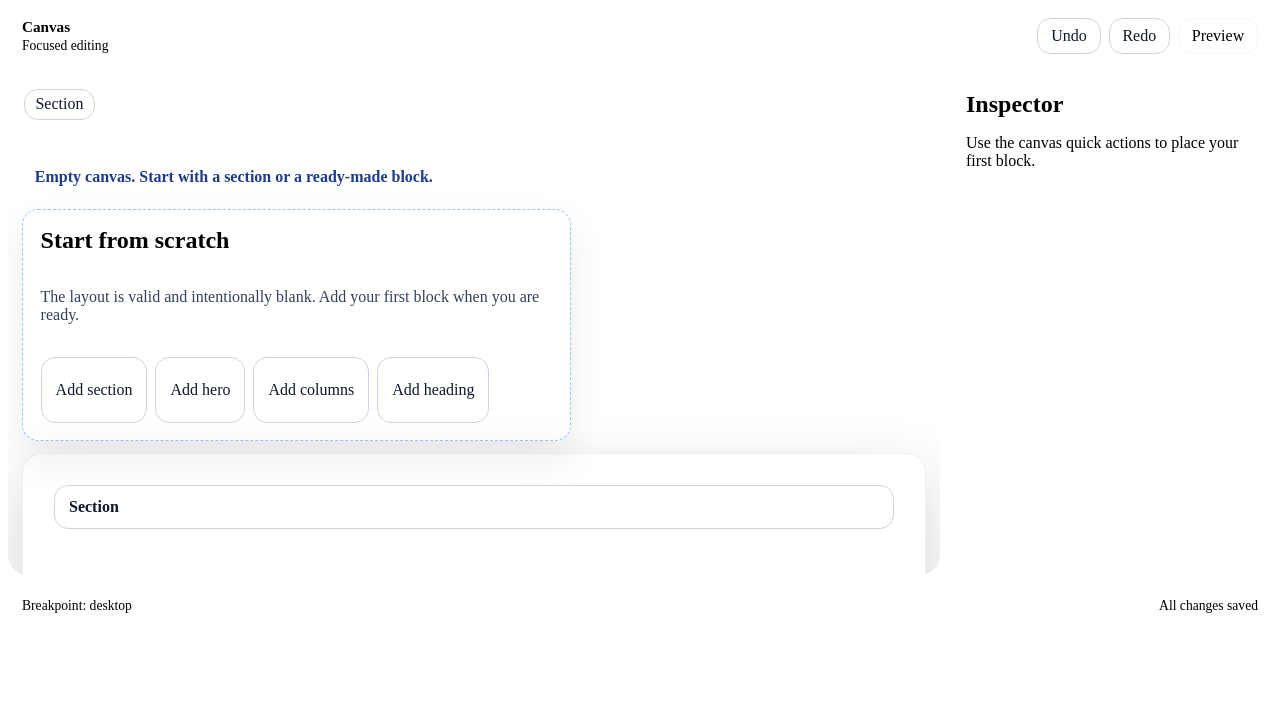
Test: editor shell flow › shows an empty-state affordance and selects the created first heading
Click the button "Add heading" at (433, 390), box [377, 357, 489, 423]
(page scrolled)
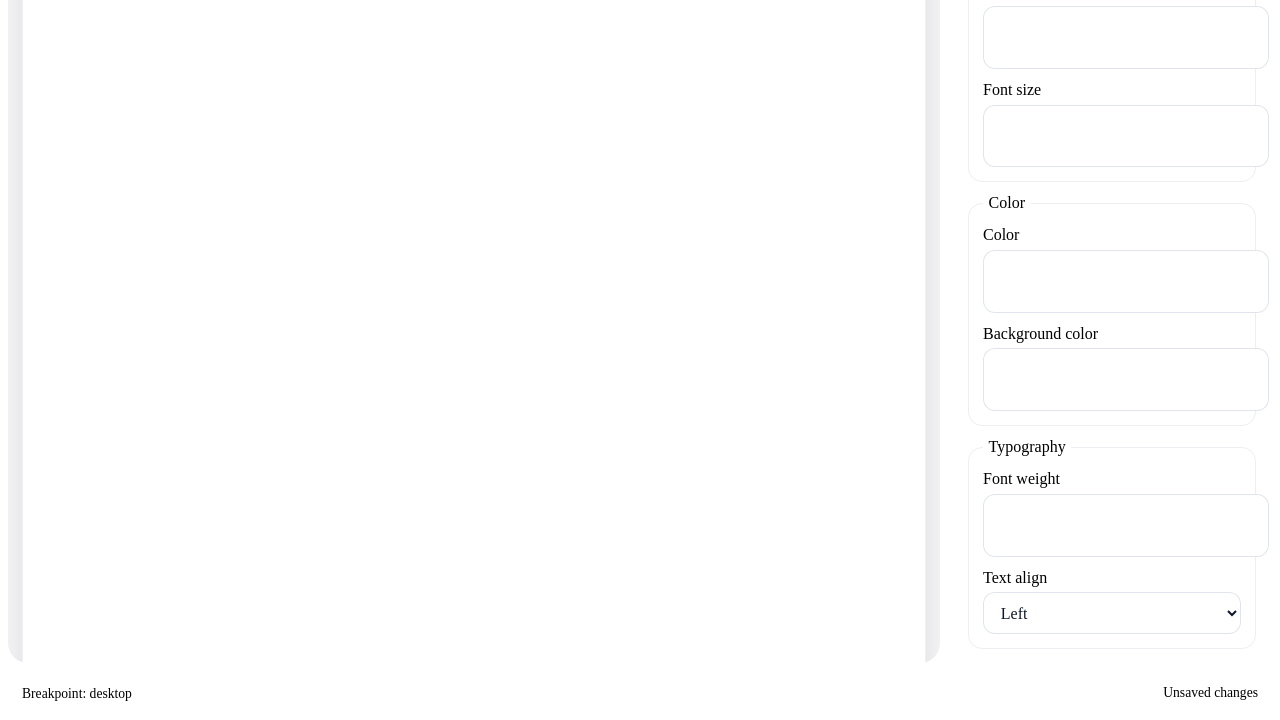
expect the text "Unsaved changes" is shown: met, box [1163, 685, 1258, 701]
